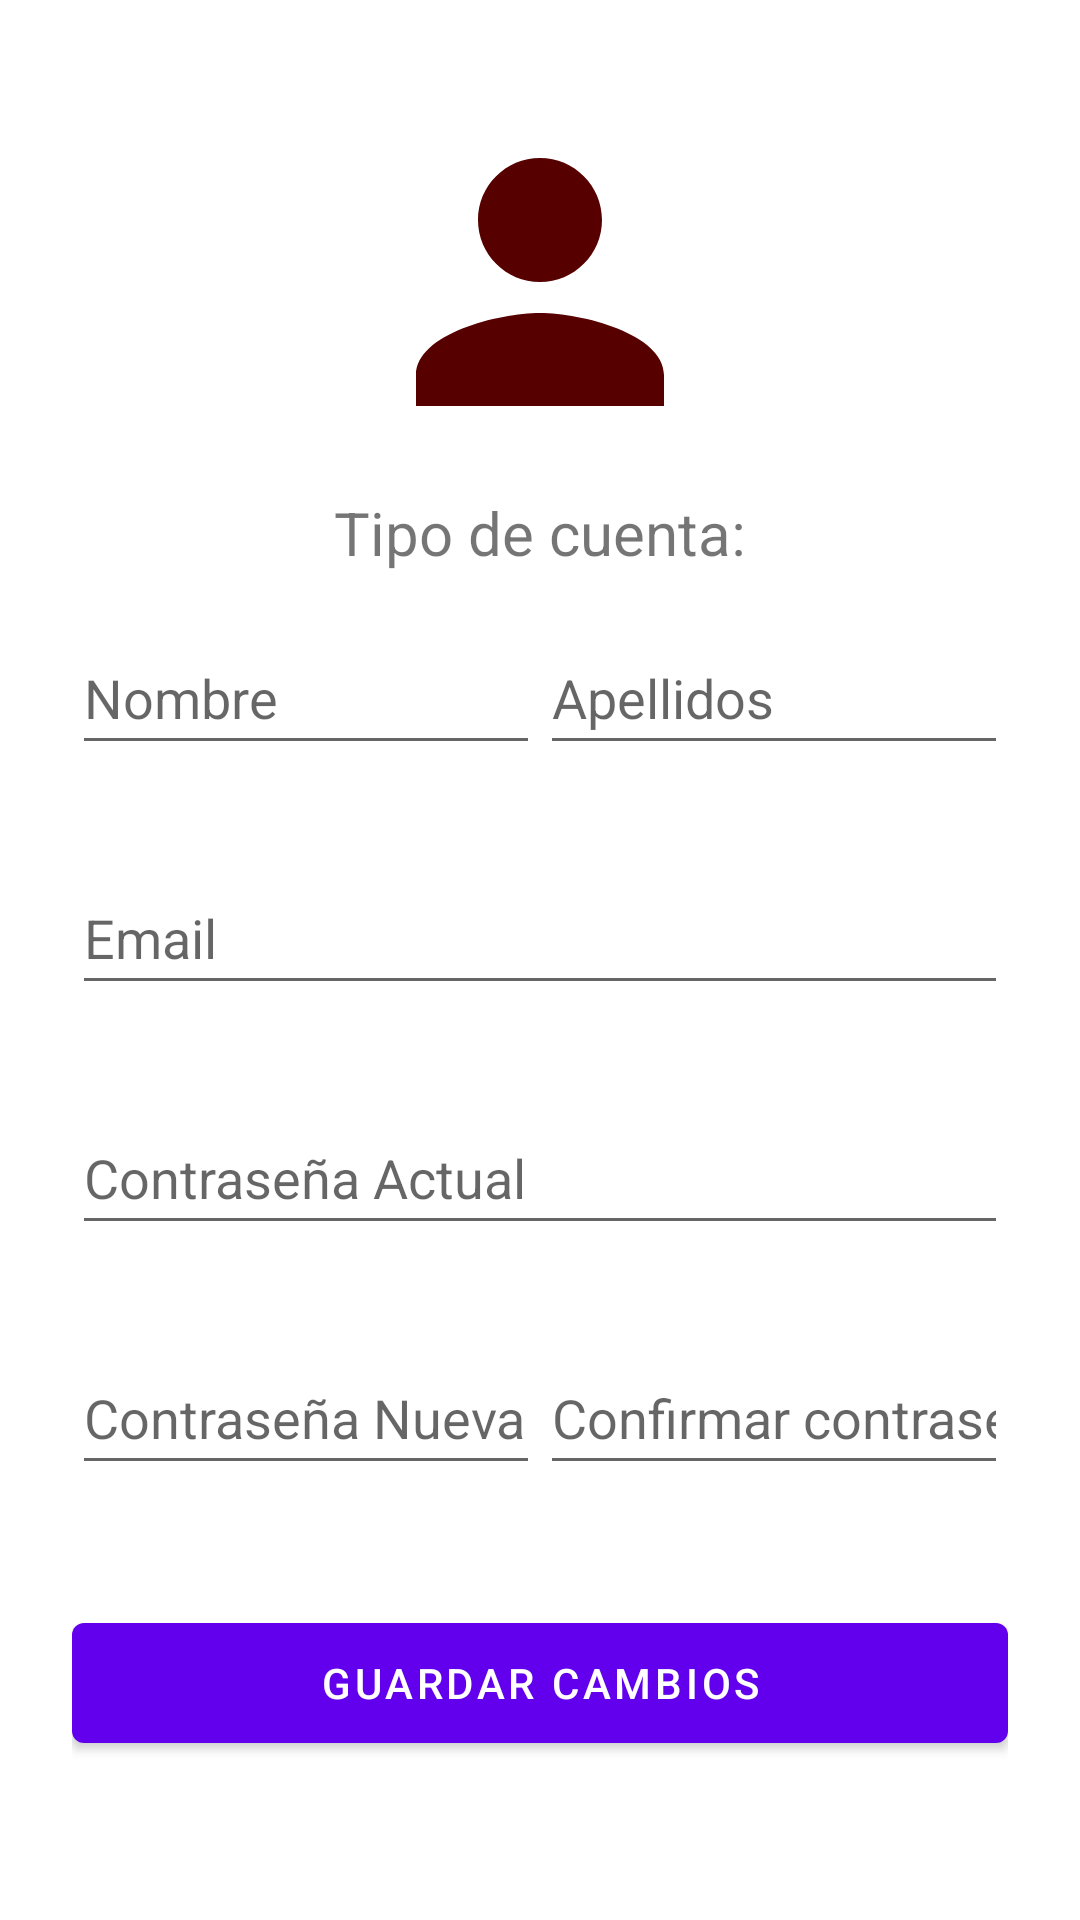

Named icons in this screenshot (1080w x 1920h) and their bounding boxes, [left=x1, top=y1, right=x2, bottom=y2]:
person: [left=416, top=158, right=664, bottom=406]
